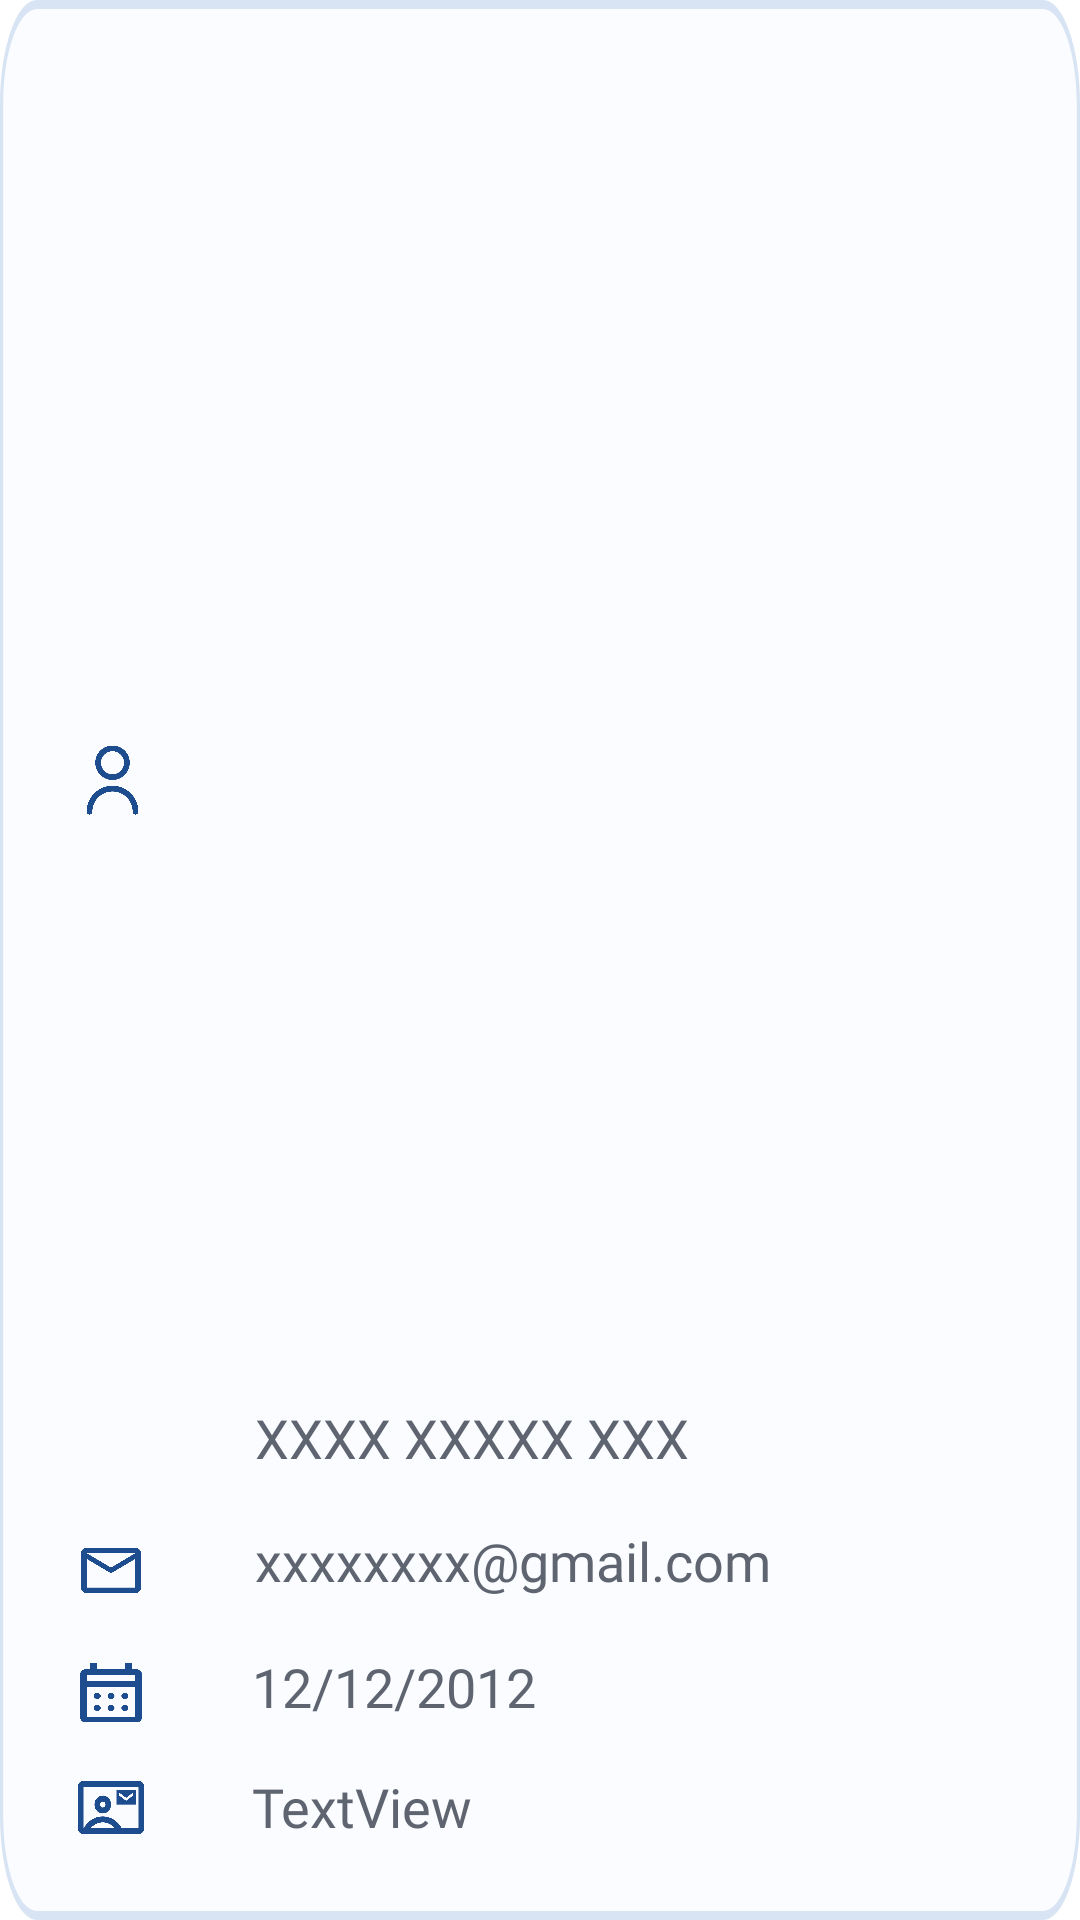

Icon bounding boxes for this 1080*1920 phone screenshot, format [left=x1, top=y1, right=x2, bottom=y2]:
calendario: [left=80, top=1663, right=142, bottom=1722]
cracha: [left=78, top=1781, right=144, bottom=1834]
email: [left=81, top=1548, right=141, bottom=1593]
perfilvazio: [left=87, top=746, right=138, bottom=815]
